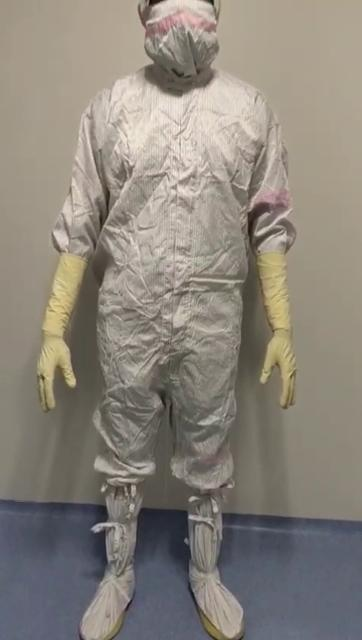boot_secured: (174, 456, 258, 640), (78, 446, 150, 640)
gloves_fitted_securely: (246, 228, 318, 412), (31, 228, 95, 410)
zip_secured: (158, 63, 204, 340)
